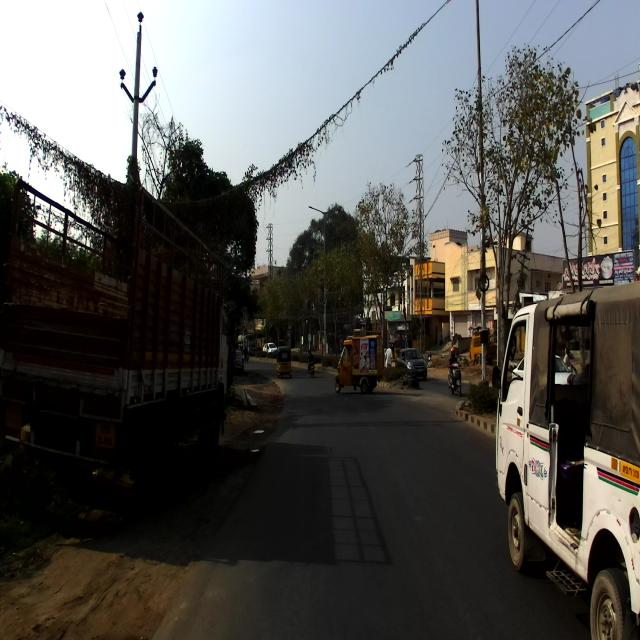car ahead at: (496, 293, 640, 640)
truck ahead at: (9, 175, 245, 548), (334, 332, 383, 396)
